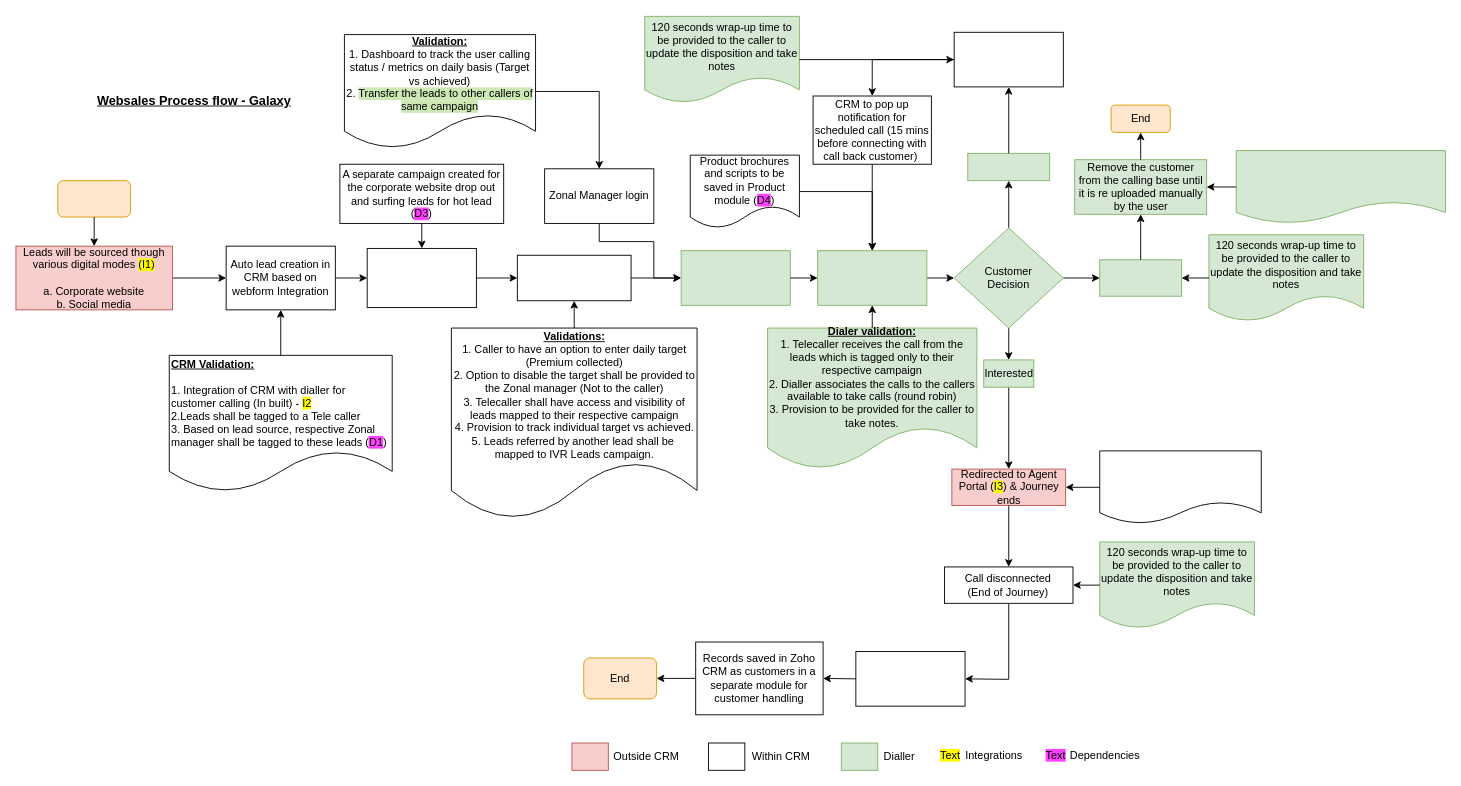
The diagram is 1461 pixels wide and 786 high, and some of its shapes have lost their labels. The shapes that lost their labels are listed below. From the top down, each one's box as (x1, y1, x2, y2) in pixels, then its label:
(953, 31, 1063, 87): Update the disposition in CRM with call back time
(967, 152, 1050, 181): Call Back / Call not picked
(1235, 150, 1446, 223): Call the customer with different agent for 2nd time ( D5 )
(57, 180, 131, 217): Start
(366, 248, 476, 308): Campaigns to be created ( D2 )
(516, 254, 631, 301): Telecaller login to CRM & Dialer (SSO to be ensured)
(680, 250, 790, 305): Dialler auto assigns the hot leads based on round robin method
(817, 250, 927, 305): Telecaller receives the call
(1099, 259, 1182, 296): Not Interested
(1099, 450, 1261, 524): Pass lead ID & Channel ID along with the URL
(855, 651, 965, 706): I4 - Policy details sent to CRM ( D6 ) from TCS BaNCS
